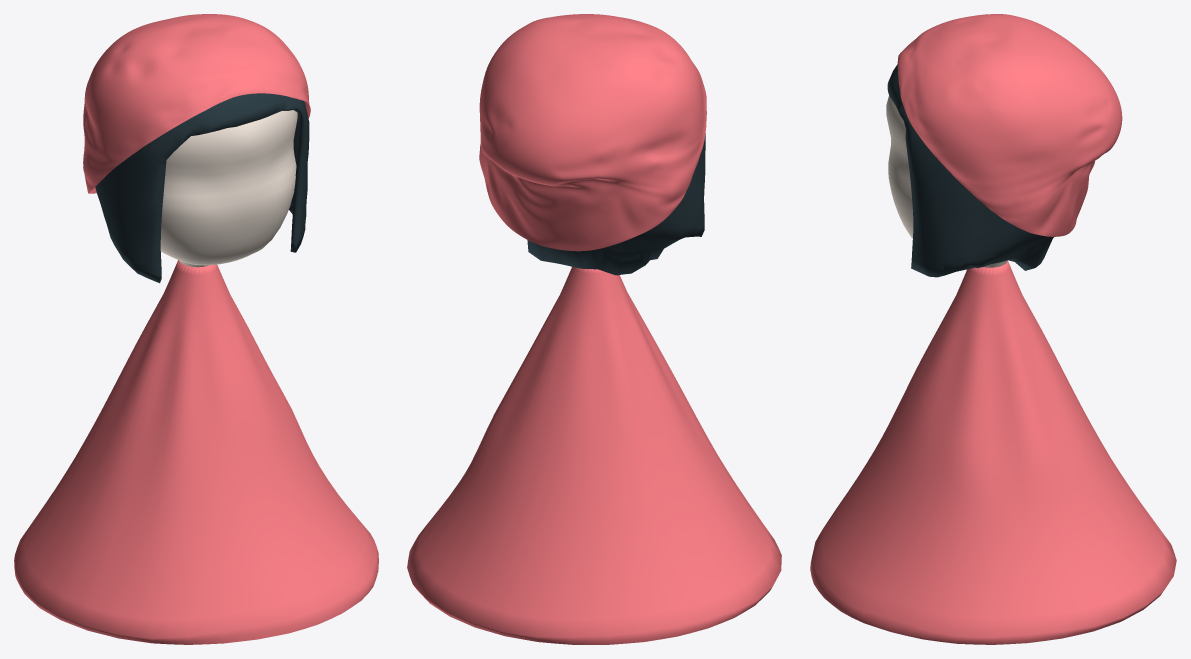
File: Young.fbx
The picture shows the model from 3 angles, left to right: view 1: azimuth 30°, elevation 25°; view 2: azimuth 150°, elevation 25°; view 3: azimuth 270°, elevation 25°; orthographic projection.
Parts seen in each view (by area): view 1: Cone, gorroretop_001, Sphere, hairrrr; view 2: Cone, gorroretop_001, hairrrr; view 3: Cone, gorroretop_001, hairrrr, Sphere.
Boxes of the visible parts, x1,y1,x2,y2 form: Cone: [14, 260, 378, 644]; gorroretop_001: [83, 14, 310, 193]; Sphere: [160, 110, 297, 267]; hairrrr: [95, 93, 309, 283]; Cone: [407, 266, 781, 644]; gorroretop_001: [479, 14, 706, 251]; hairrrr: [527, 133, 705, 275]; Cone: [810, 260, 1176, 644]; gorroretop_001: [897, 14, 1122, 236]; hairrrr: [887, 64, 1053, 277]; Sphere: [886, 95, 1007, 267].
Bounding box in the file's own units: 322 × 514 × 319.
